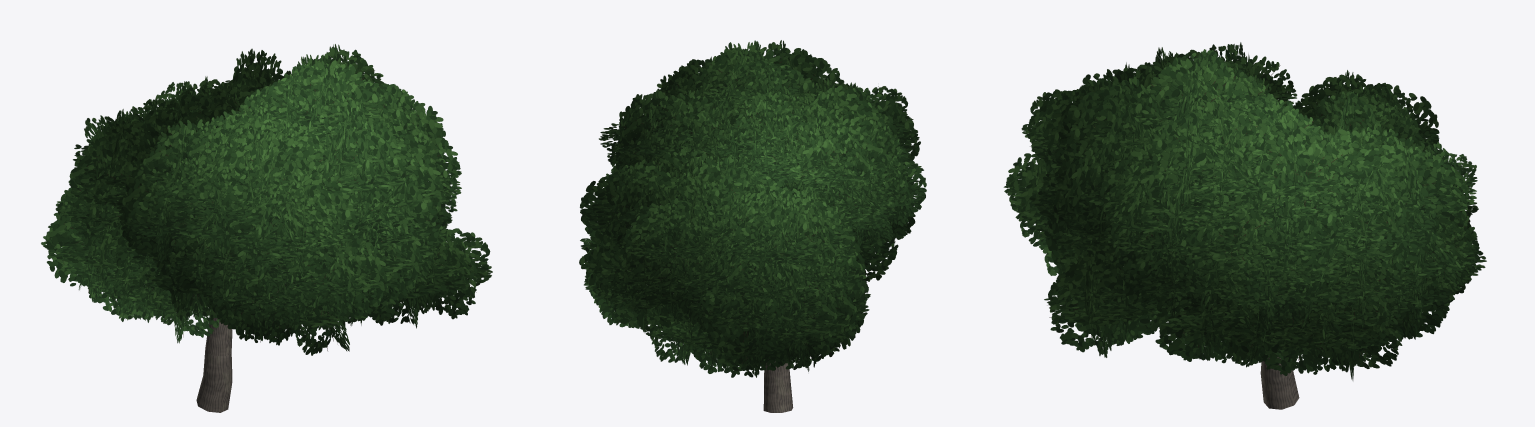
The model's file is arbol-ficus.gltf.
The picture shows the model from 3 angles, left to right: view 1: azimuth 30°, elevation 25°; view 2: azimuth 150°, elevation 25°; view 3: azimuth 270°, elevation 25°; orthographic projection. The views are drawn at different scales.
Parts seen in each view (by area): view 1: ficus_hojas, ficus_tronco; view 2: ficus_hojas, ficus_tronco; view 3: ficus_hojas, ficus_tronco.
Boxes of the visible parts, bbox=[...] form: ficus_hojas: bbox=[41, 44, 492, 355]; ficus_tronco: bbox=[196, 317, 232, 412]; ficus_hojas: bbox=[579, 40, 926, 377]; ficus_tronco: bbox=[763, 359, 793, 412]; ficus_hojas: bbox=[1003, 42, 1486, 380]; ficus_tronco: bbox=[1260, 357, 1299, 409].
Size of the model in its own units: 5.05 by 4.81 by 6.
2 materials, 2 textured.
